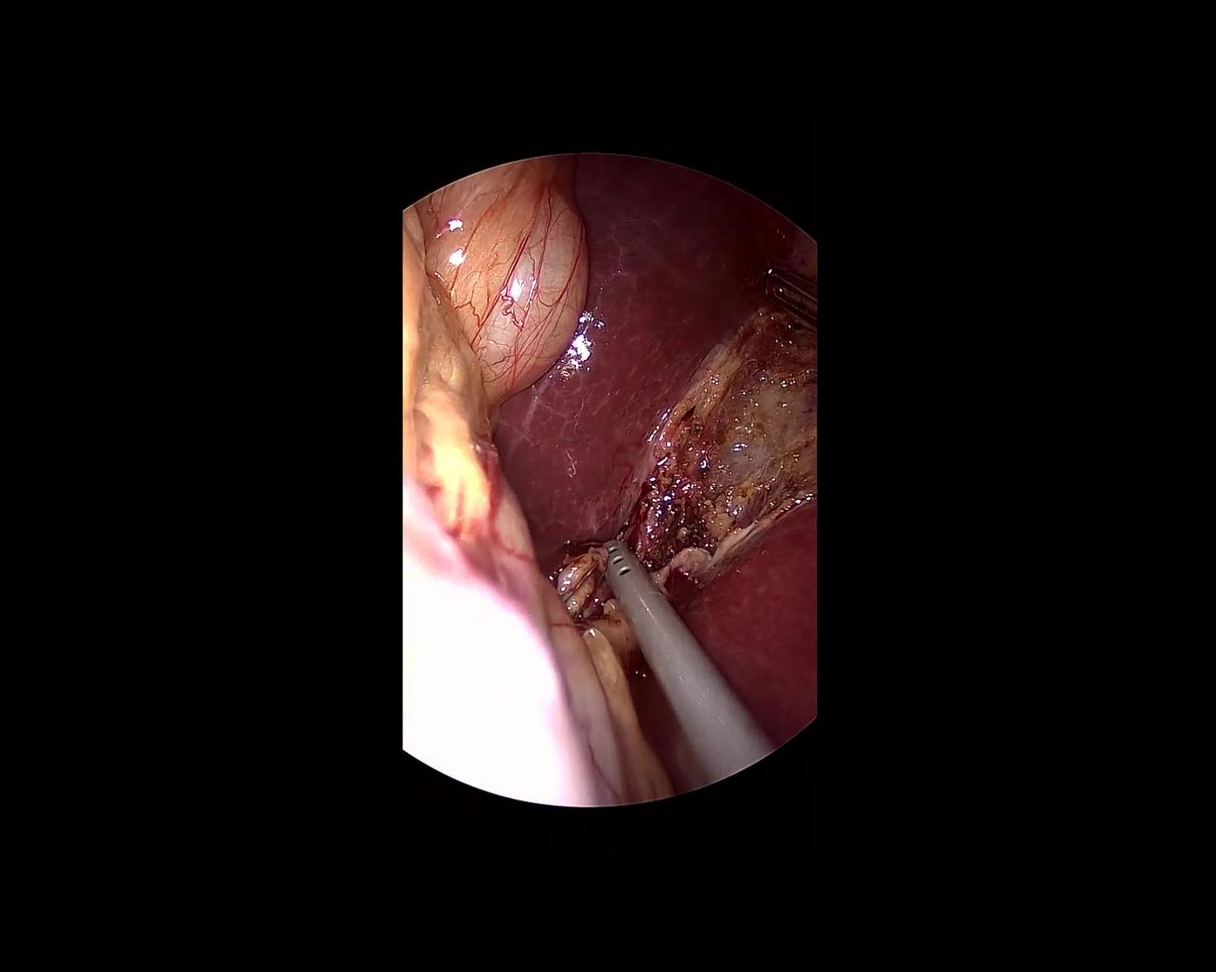Forceps: (750, 260, 836, 334)
Liver: (428, 129, 796, 606), (668, 497, 919, 747)
Suction: (580, 522, 777, 786)
